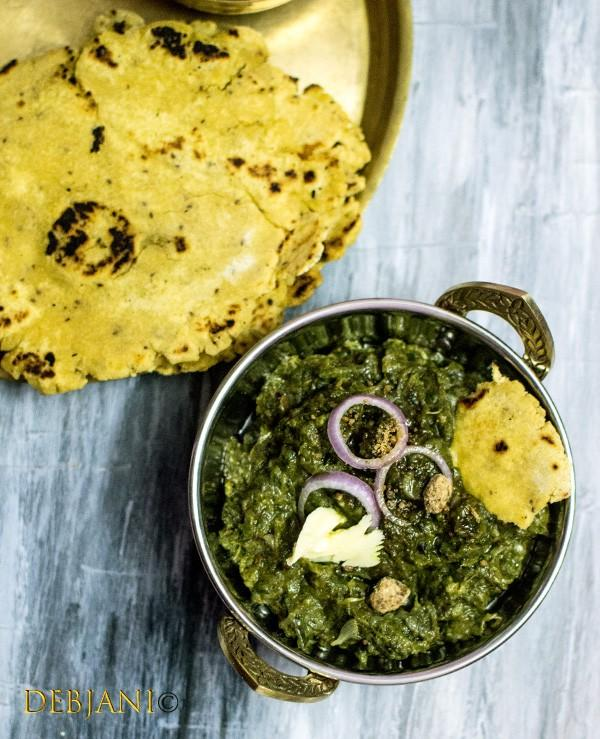saag: (224, 345, 525, 668)
